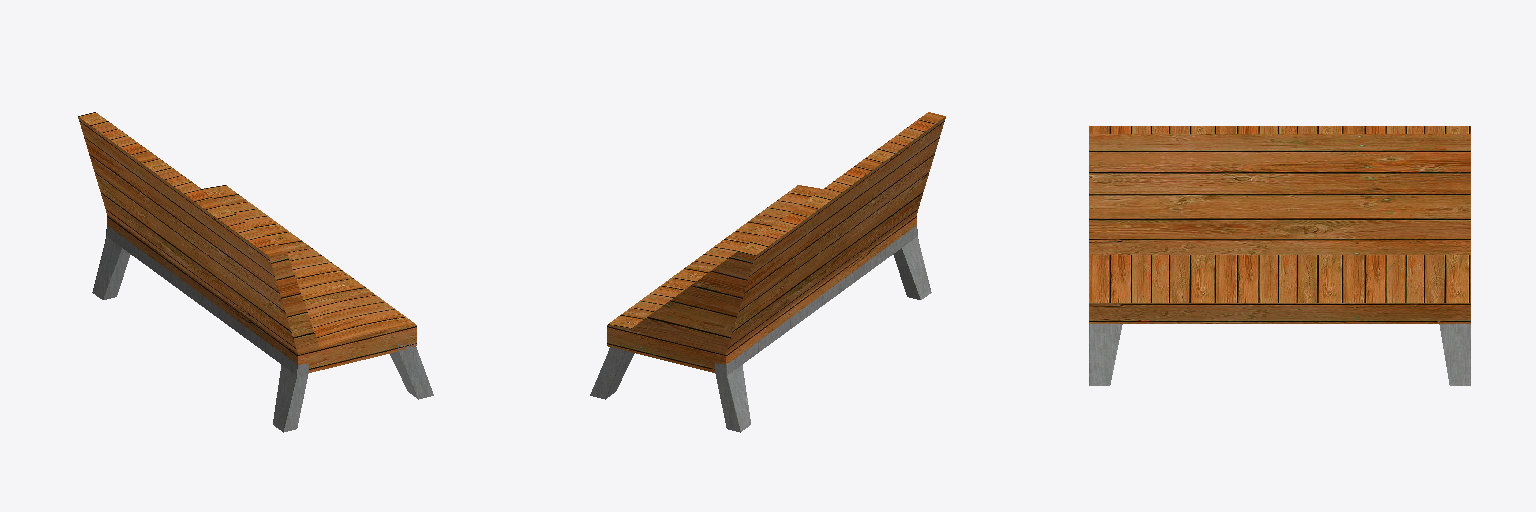
3 renders of one model, left to right at view 1: azimuth 30°, elevation 25°; view 2: azimuth 150°, elevation 25°; view 3: azimuth 270°, elevation 25°, orthographic.
Visible parts, largest first — view 1: Mesh1 Model; view 2: Mesh1 Model; view 3: Mesh1 Model.
Boxes of the visible parts, x1=… form: Mesh1 Model: x1=78, y1=112, x2=433, y2=432; Mesh1 Model: x1=590, y1=112, x2=945, y2=432; Mesh1 Model: x1=1089, y1=126, x2=1470, y2=385.
Bounding box in the file's own units: 36 × 37.44 × 72.
2 materials, 2 textured.